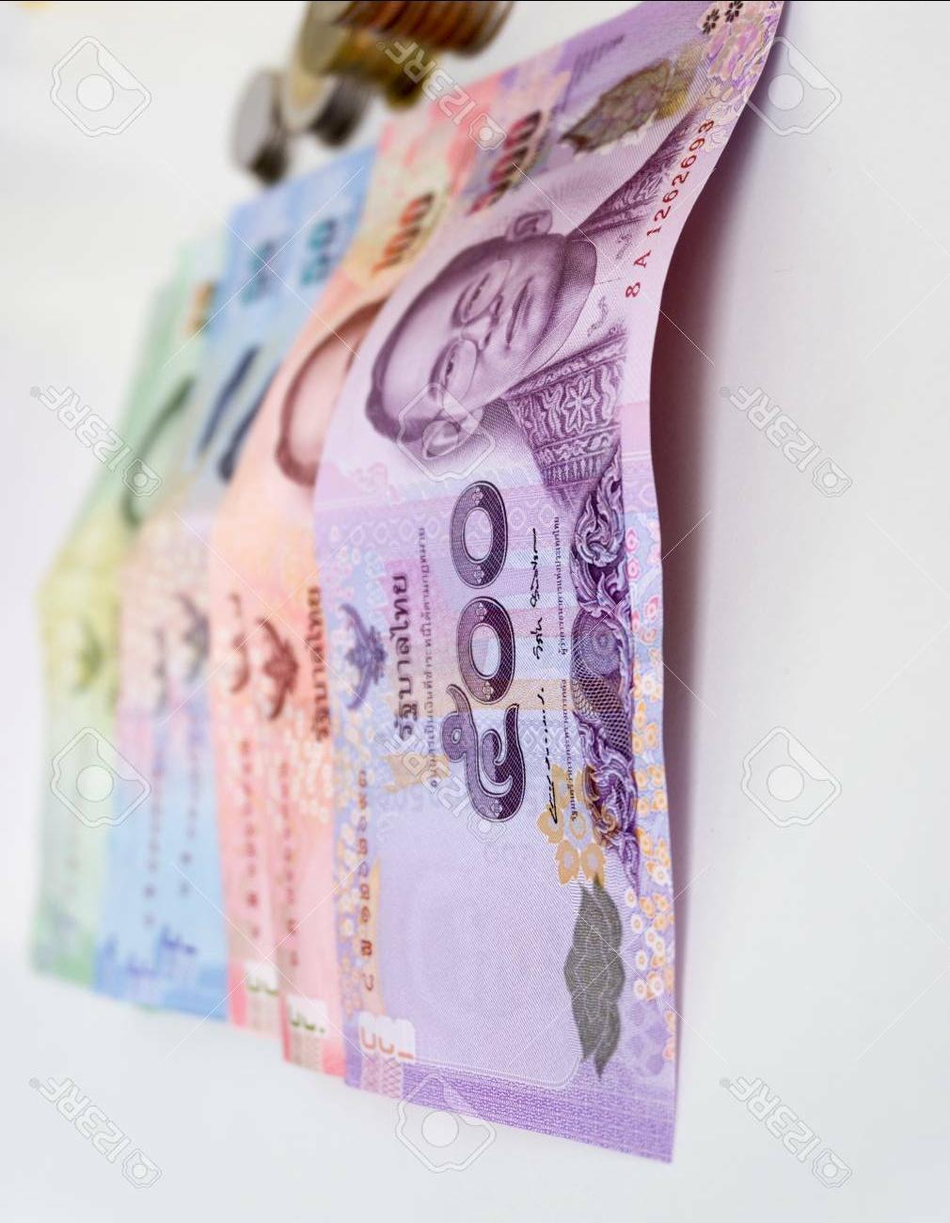500BahtTai: (293, 3, 820, 1098)
